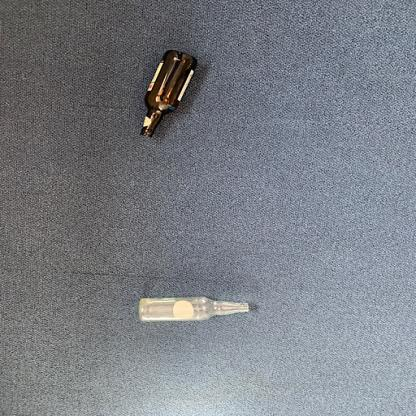trash: (135, 48, 202, 146), (131, 292, 254, 326)
